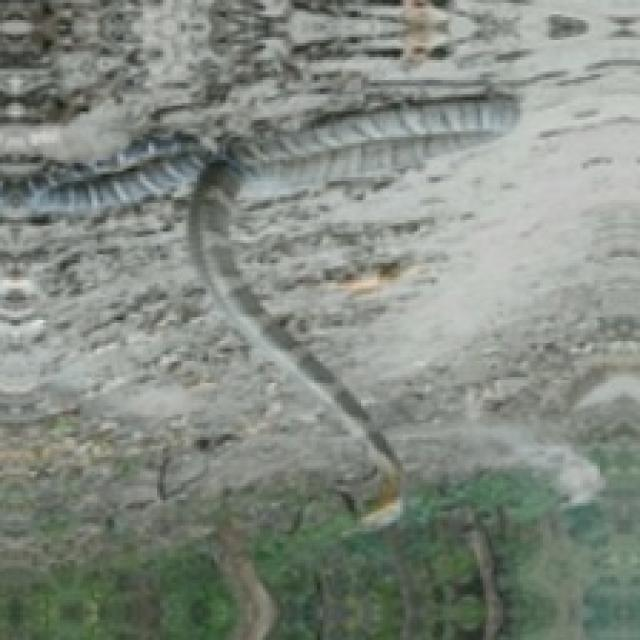king cobra: (0, 83, 517, 526)
